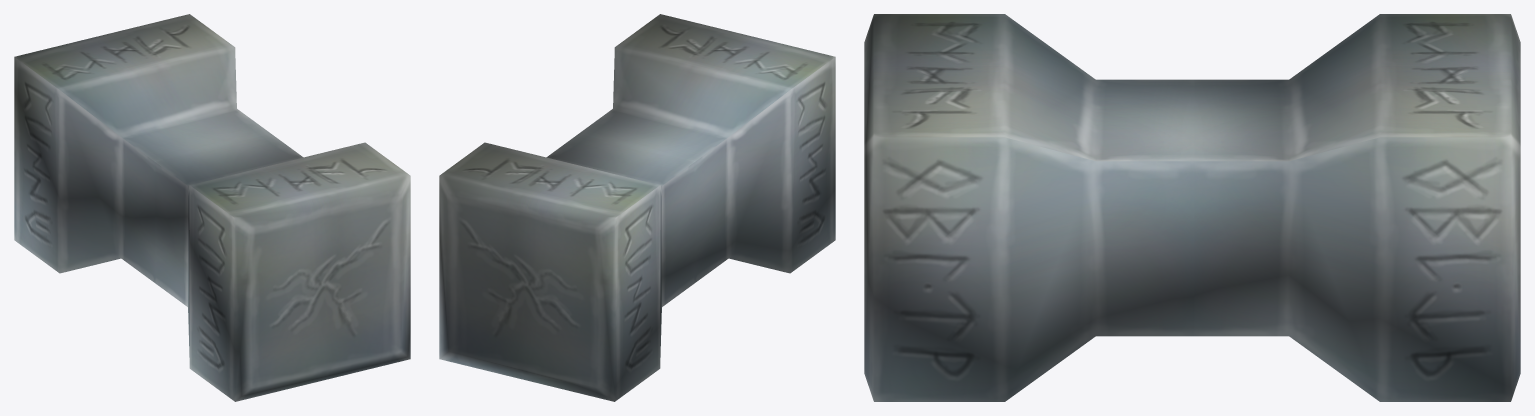
Rendered from hammer_head.obj.
3 renders of one model, left to right at view 1: azimuth 30°, elevation 25°; view 2: azimuth 150°, elevation 25°; view 3: azimuth 270°, elevation 25°, orthographic. The views are drawn at different scales.
Parts seen in each view (by area): view 1: Cube_Cube.001; view 2: Cube_Cube.001; view 3: Cube_Cube.001.
Boxes of the visible parts, x1,y1,x2,y2 form: Cube_Cube.001: (14, 14, 410, 401); Cube_Cube.001: (439, 14, 835, 401); Cube_Cube.001: (864, 14, 1520, 401).
Size of the model in its own units: 4.01 by 4.01 by 9.01.
1 material, 1 textured.
